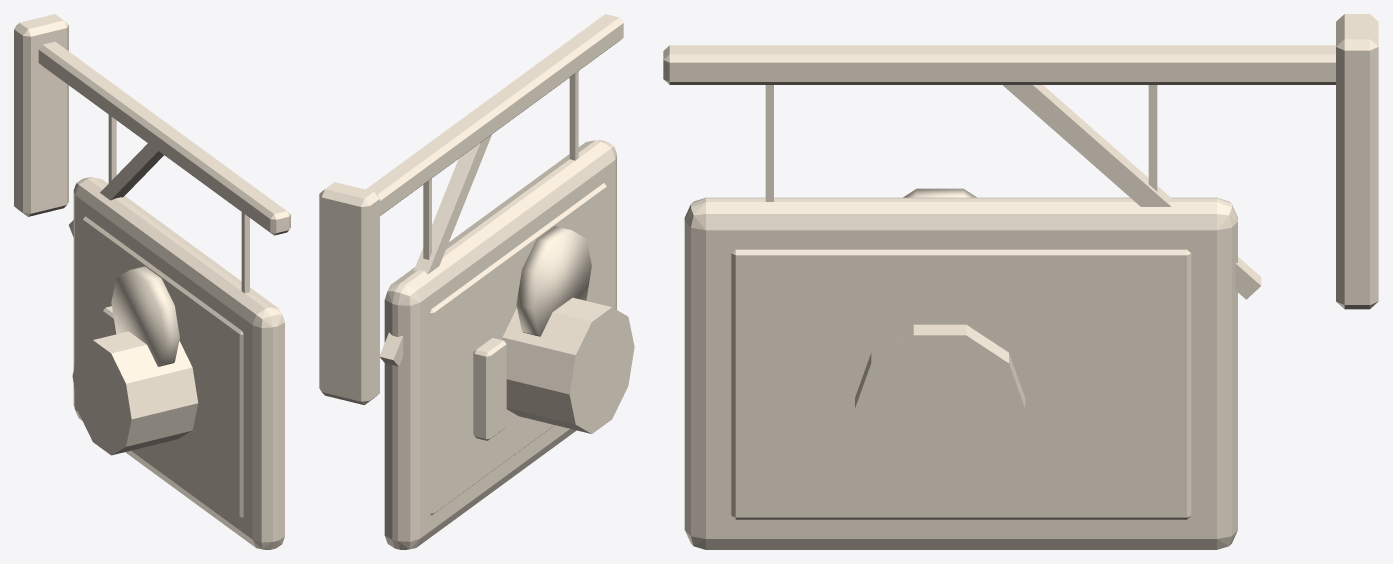
The model's file is SM_VK_Prop_TavernSign.fbx.
3 renders of one model, left to right at view 1: azimuth 30°, elevation 25°; view 2: azimuth 150°, elevation 25°; view 3: azimuth 270°, elevation 25°, orthographic. The views are drawn at different scales.
Visible parts, largest first — view 1: SM_VK_Prop_TavernSign.001; view 2: SM_VK_Prop_TavernSign.001; view 3: SM_VK_Prop_TavernSign.001.
Part boxes in pixels (x1,y1,x2,y2): SM_VK_Prop_TavernSign.001: (14,14,290,549); SM_VK_Prop_TavernSign.001: (319,14,634,549); SM_VK_Prop_TavernSign.001: (663,14,1378,549).
Size of the model in its own units: 0.46 by 1.35 by 1.68.
